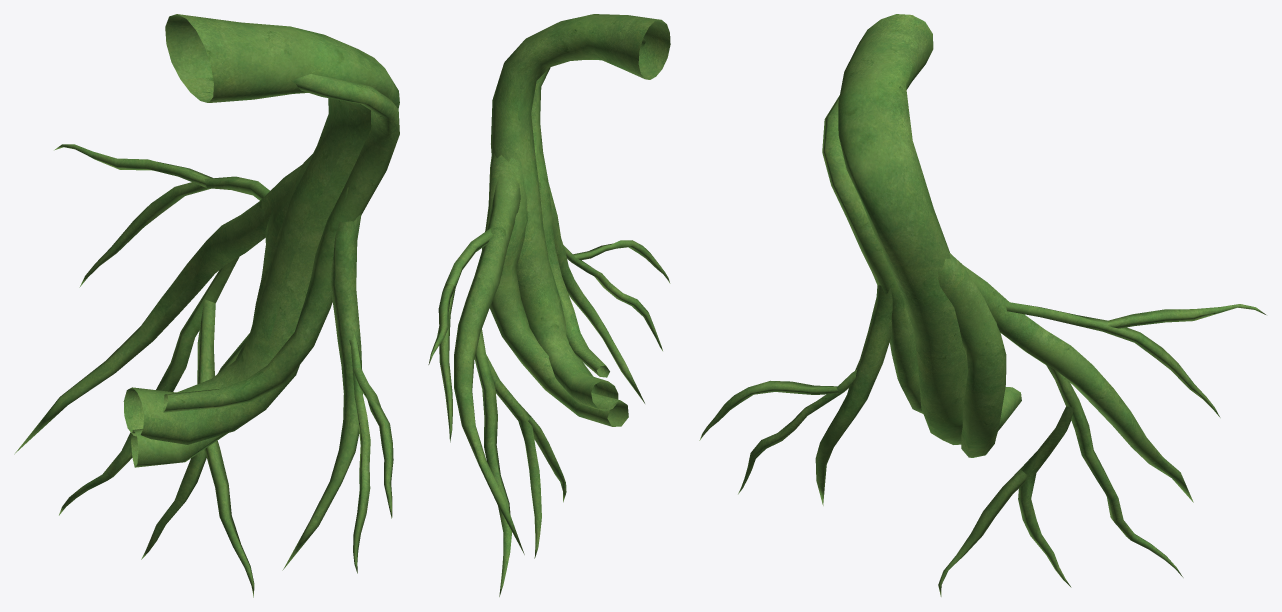
Rendered from SM_ENV_KNFRST_Roots_G.FBX.
The picture shows the model from 3 angles, left to right: view 1: azimuth 30°, elevation 25°; view 2: azimuth 150°, elevation 25°; view 3: azimuth 270°, elevation 25°; orthographic projection. The views are drawn at different scales.
Visible parts, largest first — view 1: SM_ENV_KNFRST_Roots_G; view 2: SM_ENV_KNFRST_Roots_G; view 3: SM_ENV_KNFRST_Roots_G.
Boxes of the visible parts, x1,y1,x2,y2 form: SM_ENV_KNFRST_Roots_G: (14,14,399,597); SM_ENV_KNFRST_Roots_G: (428,14,670,596); SM_ENV_KNFRST_Roots_G: (699,14,1265,596).
Size of the model in its own units: 437 by 1244 by 1163.
